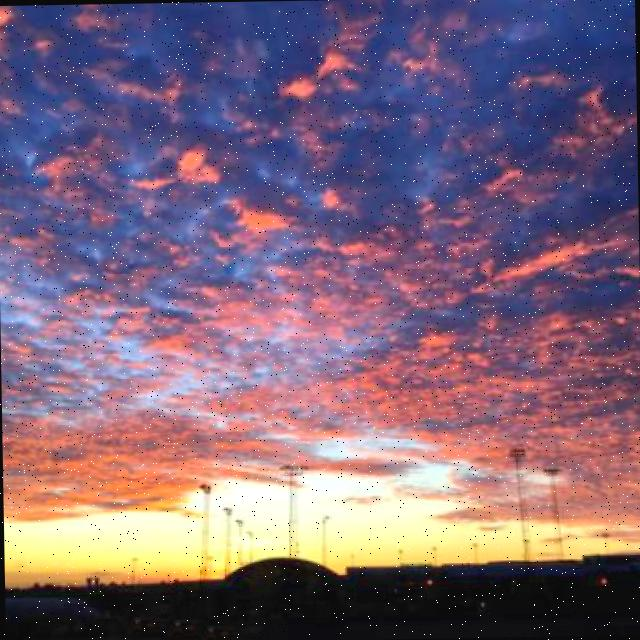Cc: (1, 1, 640, 443)
